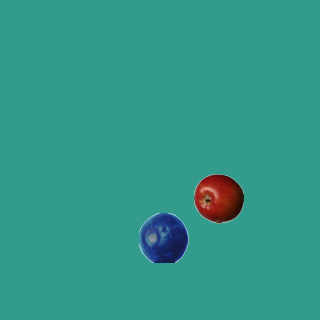Apple Braeburn: (193, 173, 243, 223)
Huckleberry: (138, 212, 188, 262)
